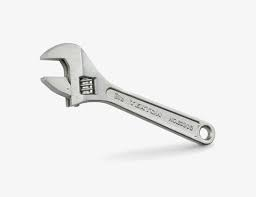Wrench: (26, 25, 230, 158)
